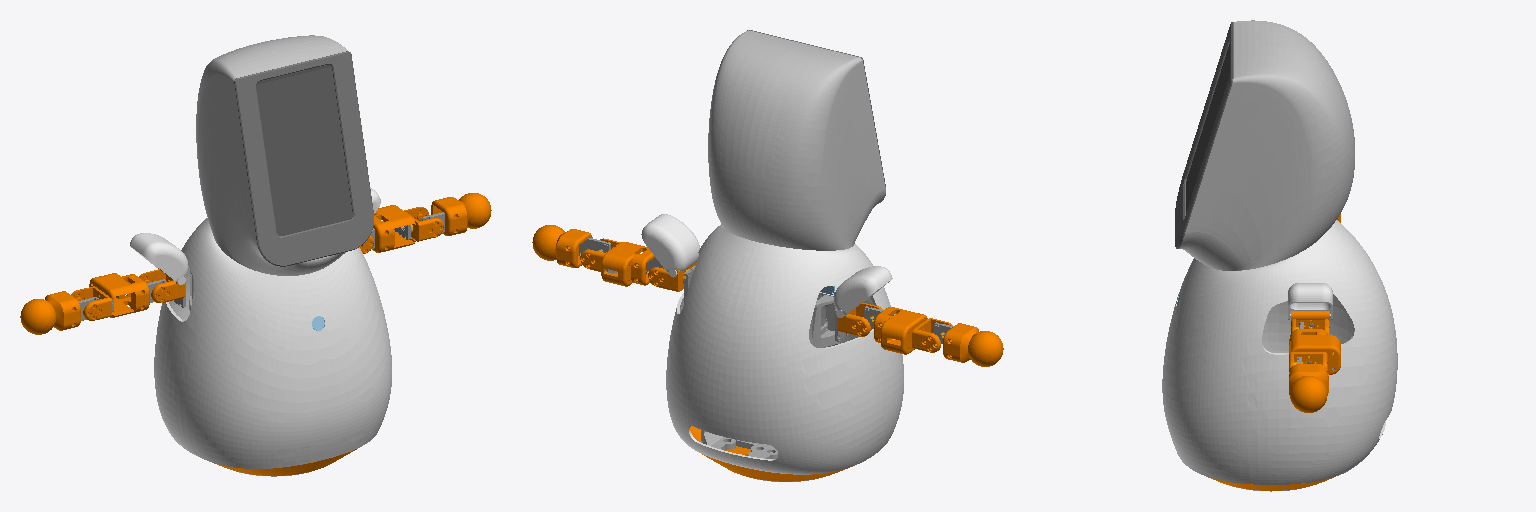
--- Facts derived from the render (not from the file) ---
The picture shows the robot from 3 angles, left to right: view 1: azimuth 30°, elevation 25°; view 2: azimuth 150°, elevation 25°; view 3: azimuth 270°, elevation 25°; orthographic projection.
Robot: simulation — 15 links, 14 joints (12 revolute, 2 fixed); root link arm_left; default pose: every joint at zero.
Links seen in each view (by area): view 1: arm_left, display, xl330___assembly_4, xl330___assembly_2, xl330___assembly_3, shoulder_pad_2, xl330___assembly, right_shoulder, elbow_2, elbow; view 2: arm_left, display, shoulder_pad, xl330___assembly_4, xl330___assembly_2, xl330___assembly, xl330___assembly_3, shoulder_pad_2, elbow_2, right_shoulder, left_shoulder; view 3: arm_left, display, xl330___assembly_2, xl330___assembly, shoulder_pad, left_shoulder.
Boxes of the visible links, x1,y1,x2,y2 form: arm_left: [154, 218, 391, 475]; display: [196, 35, 373, 275]; xl330___assembly_4: [20, 291, 98, 334]; xl330___assembly_2: [422, 193, 491, 235]; xl330___assembly_3: [89, 273, 166, 317]; shoulder_pad_2: [130, 233, 188, 284]; xl330___assembly: [370, 205, 415, 252]; right_shoulder: [139, 268, 184, 302]; elbow_2: [71, 286, 111, 320]; elbow: [404, 207, 443, 241]; arm_left: [666, 224, 903, 481]; display: [708, 30, 885, 250]; shoulder_pad: [641, 214, 699, 277]; xl330___assembly_4: [934, 322, 1003, 366]; xl330___assembly_2: [532, 225, 610, 267]; xl330___assembly: [601, 242, 663, 286]; xl330___assembly_3: [864, 306, 927, 354]; shoulder_pad_2: [834, 266, 892, 317]; elbow_2: [912, 318, 952, 352]; right_shoulder: [838, 301, 882, 336]; left_shoulder: [648, 262, 696, 291]; arm_left: [1162, 220, 1397, 490]; display: [1175, 20, 1354, 270]; xl330___assembly_2: [1289, 357, 1328, 412]; xl330___assembly: [1289, 322, 1340, 374]; shoulder_pad: [1288, 283, 1332, 319]; left_shoulder: [1291, 311, 1329, 334].
Size in the robot's own frame: 0.5202 by 0.2191 by 0.4273 metres.
44 mesh visuals loaded from 24 distinct referenced files (20 binary STL); not drawn: 40 (reference not matched to a file when rendering).

URDF robot description (simulation):
<?xml version="1.0" ?>
<!-- Generated using onshape-to-robot -->
<!-- Onshape https://cad.onshape.com/documents/6693e038d6f5b2ee88eb0e81/w/837c8362b0b0bbf41939d6fd/e/ded7f450cb5bd722a96b42b6 -->
<robot name="simulation">
  <!-- Link arm_left -->
  <link name="arm_left">
    <inertial>
      <origin xyz="1.56855e-07 0.00536118 0.0913436" rpy="0 0 0"/>
      <mass value="0.926817"/>
      <inertia ixx="0.00864223" ixy="7.3434e-07" ixz="-7.3209e-08" iyy="0.00898484" iyz="-0.000208978" izz="0.00689434"/>
    </inertial>
    <!-- Part arm_left -->
    <visual>
      <origin xyz="5.01468e-16 4.623e-16 0.02" rpy="-1.00624e-25 -8.61788e-25 -3.14159"/>
      <geometry>
        <mesh filename="./assets/arm_left.stl"/>
      </geometry>
      <material name="arm_left_material">
        <color rgba="0.701961 0.701961 0.701961 1"/>
      </material>
    </visual>
    <collision>
      <origin xyz="5.01468e-16 4.623e-16 0.02" rpy="-1.00624e-25 -8.61788e-25 -3.14159"/>
      <geometry>
        <mesh filename="./assets/arm_left.stl"/>
      </geometry>
    </collision>
    <!-- Part arm_right -->
    <visual>
      <origin xyz="-5.09524e-16 4.76339e-16 0.02" rpy="-1.00624e-25 -8.61788e-25 -3.14159"/>
      <geometry>
        <mesh filename="./assets/arm_right.stl"/>
      </geometry>
      <material name="arm_right_material">
        <color rgba="0.701961 0.701961 0.701961 1"/>
      </material>
    </visual>
    <collision>
      <origin xyz="-5.09524e-16 4.76339e-16 0.02" rpy="-1.00624e-25 -8.61788e-25 -3.14159"/>
      <geometry>
        <mesh filename="./assets/arm_right.stl"/>
      </geometry>
    </collision>
    <!-- Part camera -->
    <visual>
      <origin xyz="-3.50545e-16 -0.0627719 0.157192" rpy="1.26238 -7.40306e-16 1.66262e-16"/>
      <geometry>
        <mesh filename="./assets/camera.stl"/>
      </geometry>
      <material name="camera_material">
        <color rgba="0.615686 0.811765 0.929412 1"/>
      </material>
    </visual>
    <collision>
      <origin xyz="-3.50545e-16 -0.0627719 0.157192" rpy="1.26238 -7.40306e-16 1.66262e-16"/>
      <geometry>
        <mesh filename="./assets/camera.stl"/>
      </geometry>
    </collision>
    <!-- Part motor_driver_mount -->
    <visual>
      <origin xyz="7.2818e-16 -2.35864e-16 0.02" rpy="-1.00624e-25 -8.61788e-25 -3.14159"/>
      <geometry>
        <mesh filename="./assets/motor_driver_mount.stl"/>
      </geometry>
      <material name="motor_driver_mount_material">
        <color rgba="0.498039 0.498039 0.498039 1"/>
      </material>
    </visual>
    <collision>
      <origin xyz="7.2818e-16 -2.35864e-16 0.02" rpy="-1.00624e-25 -8.61788e-25 -3.14159"/>
      <geometry>
        <mesh filename="./assets/motor_driver_mount.stl"/>
      </geometry>
    </collision>
    <!-- Part body -->
    <visual>
      <origin xyz="-2.95314e-18 -1.03514e-16 0.02" rpy="0 -0 3.14159"/>
      <geometry>
        <mesh filename="./assets/body.stl"/>
      </geometry>
      <material name="body_material">
        <color rgba="0.917647 0.917647 0.917647 1"/>
      </material>
    </visual>
    <collision>
      <origin xyz="-2.95314e-18 -1.03514e-16 0.02" rpy="0 -0 3.14159"/>
      <geometry>
        <mesh filename="./assets/body.stl"/>
      </geometry>
    </collision>
    <!-- Part base -->
    <visual>
      <origin xyz="-1.44445e-34 1.1328e-18 0.02" rpy="-3.00927e-36 4.07832e-56 -3.14159"/>
      <geometry>
        <mesh filename="./assets/base.stl"/>
      </geometry>
      <material name="base_material">
        <color rgba="0.972549 0.529412 0.00392157 1"/>
      </material>
    </visual>
    <collision>
      <origin xyz="-1.44445e-34 1.1328e-18 0.02" rpy="-3.00927e-36 4.07832e-56 -3.14159"/>
      <geometry>
        <mesh filename="./assets/base.stl"/>
      </geometry>
    </collision>
    <!-- Part b3b_eh -->
    <visual>
      <origin xyz="0.0721 0.0452 0.170517" rpy="-1.5708 1.5708 0"/>
      <geometry>
        <mesh filename="./assets/b3b_eh.stl"/>
      </geometry>
      <material name="b3b_eh_material">
        <color rgba="0.980392 0.713725 0.00392157 1"/>
      </material>
    </visual>
    <collision>
      <origin xyz="0.0721 0.0452 0.170517" rpy="-1.5708 1.5708 0"/>
      <geometry>
        <mesh filename="./assets/b3b_eh.stl"/>
      </geometry>
    </collision>
    <!-- Part bts2_m2_6x8 -->
    <visual>
      <origin xyz="0.0874 0.0375 0.179517" rpy="1.6323e-15 -7.15314e-15 -1.5708"/>
      <geometry>
        <mesh filename="./assets/bts2_m2_6x8.stl"/>
      </geometry>
      <material name="bts2_m2_6x8_material">
        <color rgba="0.647059 0.647059 0.647059 1"/>
      </material>
    </visual>
    <collision>
      <origin xyz="0.0874 0.0375 0.179517" rpy="1.6323e-15 -7.15314e-15 -1.5708"/>
      <geometry>
        <mesh filename="./assets/bts2_m2_6x8.stl"/>
      </geometry>
    </collision>
    <!-- Part dc15_a01_case_b_dummy -->
    <visual>
      <origin xyz="0.063 0.0375 0.179517" rpy="1.5708 -1.00624e-25 1.5708"/>
      <geometry>
        <mesh filename="./assets/dc15_a01_case_b_dummy.stl"/>
      </geometry>
      <material name="dc15_a01_case_b_dummy_material">
        <color rgba="0.615686 0.811765 0.929412 1"/>
      </material>
    </visual>
    <collision>
      <origin xyz="0.063 0.0375 0.179517" rpy="1.5708 -1.00624e-25 1.5708"/>
      <geometry>
        <mesh filename="./assets/dc15_a01_case_b_dummy.stl"/>
      </geometry>
    </collision>
    <!-- Part b3b_eh_2 -->
    <visual>
      <origin xyz="0.0721 0.0298 0.170517" rpy="1.5708 -1.5708 0"/>
      <geometry>
        <mesh filename="./assets/b3b_eh.stl"/>
      </geometry>
      <material name="b3b_eh_2_material">
        <color rgba="0.980392 0.713725 0.00392157 1"/>
      </material>
    </visual>
    <collision>
      <origin xyz="0.0721 0.0298 0.170517" rpy="1.5708 -1.5708 0"/>
      <geometry>
        <mesh filename="./assets/b3b_eh.stl"/>
      </geometry>
    </collision>
    <!-- Part dc15_a01_case_m_dummy -->
    <visual>
      <origin xyz="0.0825 0.0375 0.179517" rpy="1.5708 -1.00624e-25 1.5708"/>
      <geometry>
        <mesh filename="./assets/dc15_a01_case_m_dummy.stl"/>
      </geometry>
      <material name="dc15_a01_case_m_dummy_material">
        <color rgba="0.231373 0.380392 0.705882 1"/>
      </material>
    </visual>
    <collision>
      <origin xyz="0.0825 0.0375 0.179517" rpy="1.5708 -1.00624e-25 1.5708"/>
      <geometry>
        <mesh filename="./assets/dc15_a01_case_m_dummy.stl"/>
      </geometry>
    </collision>
    <!-- Part dc15_a01_case_f_dummy -->
    <visual>
      <origin xyz="0.0825 0.0375 0.179517" rpy="1.5708 -1.00624e-25 1.5708"/>
      <geometry>
        <mesh filename="./assets/dc15_a01_case_f_dummy.stl"/>
      </geometry>
      <material name="dc15_a01_case_f_dummy_material">
        <color rgba="0.647059 0.647059 0.647059 1"/>
      </material>
    </visual>
    <collision>
      <origin xyz="0.0825 0.0375 0.179517" rpy="1.5708 -1.00624e-25 1.5708"/>
      <geometry>
        <mesh filename="./assets/dc15_a01_case_f_dummy.stl"/>
      </geometry>
    </collision>
    <!-- Part dc15_a01_led_cap2_dummy -->
    <visual>
      <origin xyz="0.0649 0.0375 0.187017" rpy="1.5708 -4.94049e-15 -1.5708"/>
      <geometry>
        <mesh filename="./assets/dc15_a01_led_cap2_dummy.stl"/>
      </geometry>
      <material name="dc15_a01_led_cap2_dummy_material">
        <color rgba="0.498039 0.498039 0.498039 1"/>
      </material>
    </visual>
    <collision>
      <origin xyz="0.0649 0.0375 0.187017" rpy="1.5708 -4.94049e-15 -1.5708"/>
      <geometry>
        <mesh filename="./assets/dc15_a01_led_cap2_dummy.stl"/>
      </geometry>
    </collision>
    <!-- Part dc15_a01_horn_dummy -->
    <visual>
      <origin xyz="0.0861 0.0375 0.179517" rpy="1.6323e-15 -7.15314e-15 -1.5708"/>
      <geometry>
        <mesh filename="./assets/dc15_a01_horn_dummy.stl"/>
      </geometry>
      <material name="dc15_a01_horn_dummy_material">
        <color rgba="0.980392 0.713725 0.00392157 1"/>
      </material>
    </visual>
    <collision>
      <origin xyz="0.0861 0.0375 0.179517" rpy="1.6323e-15 -7.15314e-15 -1.5708"/>
      <geometry>
        <mesh filename="./assets/dc15_a01_horn_dummy.stl"/>
      </geometry>
    </collision>
    <!-- Part b3b_eh_3 -->
    <visual>
      <origin xyz="-0.0721 0.0298 0.170517" rpy="1.5708 1.5708 0"/>
      <geometry>
        <mesh filename="./assets/b3b_eh.stl"/>
      </geometry>
      <material name="b3b_eh_3_material">
        <color rgba="0.980392 0.713725 0.00392157 1"/>
      </material>
    </visual>
    <collision>
      <origin xyz="-0.0721 0.0298 0.170517" rpy="1.5708 1.5708 0"/>
      <geometry>
        <mesh filename="./assets/b3b_eh.stl"/>
      </geometry>
    </collision>
    <!-- Part bts2_m2_6x8_2 -->
    <visual>
      <origin xyz="-0.0874 0.0375 0.179517" rpy="6.76283e-14 1.02745e-14 1.5708"/>
      <geometry>
        <mesh filename="./assets/bts2_m2_6x8.stl"/>
      </geometry>
      <material name="bts2_m2_6x8_2_material">
        <color rgba="0.647059 0.647059 0.647059 1"/>
      </material>
    </visual>
    <collision>
      <origin xyz="-0.0874 0.0375 0.179517" rpy="6.76283e-14 1.02745e-14 1.5708"/>
      <geometry>
        <mesh filename="./assets/bts2_m2_6x8.stl"/>
      </geometry>
    </collision>
    <!-- Part dc15_a01_case_b_dummy_2 -->
    <visual>
      <origin xyz="-0.063 0.0375 0.179517" rpy="1.5708 1.01444e-25 -1.5708"/>
      <geometry>
        <mesh filename="./assets/dc15_a01_case_b_dummy.stl"/>
      </geometry>
      <material name="dc15_a01_case_b_dummy_2_material">
        <color rgba="0.615686 0.811765 0.929412 1"/>
      </material>
    </visual>
    <collision>
      <origin xyz="-0.063 0.0375 0.179517" rpy="1.5708 1.01444e-25 -1.5708"/>
      <geometry>
        <mesh filename="./assets/dc15_a01_case_b_dummy.stl"/>
      </geometry>
    </collision>
    <!-- Part b3b_eh_4 -->
    <visual>
      <origin xyz="-0.0721 0.0452 0.170517" rpy="-1.5708 -1.5708 0"/>
      <geometry>
        <mesh filename="./assets/b3b_eh.stl"/>
      </geometry>
      <material name="b3b_eh_4_material">
        <color rgba="0.980392 0.713725 0.00392157 1"/>
      </material>
    </visual>
    <collision>
      <origin xyz="-0.0721 0.0452 0.170517" rpy="-1.5708 -1.5708 0"/>
      <geometry>
        <mesh filename="./assets/b3b_eh.stl"/>
      </geometry>
    </collision>
    <!-- Part dc15_a01_case_m_dummy_2 -->
    <visual>
      <origin xyz="-0.0825 0.0375 0.179517" rpy="1.5708 1.01444e-25 -1.5708"/>
      <geometry>
        <mesh filename="./assets/dc15_a01_case_m_dummy.stl"/>
      </geometry>
      <material name="dc15_a01_case_m_dummy_2_material">
        <color rgba="0.231373 0.380392 0.705882 1"/>
      </material>
    </visual>
    <collision>
      <origin xyz="-0.0825 0.0375 0.179517" rpy="1.5708 1.01444e-25 -1.5708"/>
      <geometry>
        <mesh filename="./assets/dc15_a01_case_m_dummy.stl"/>
      </geometry>
    </collision>
    <!-- Part dc15_a01_case_f_dummy_2 -->
    <visual>
      <origin xyz="-0.0825 0.0375 0.179517" rpy="1.5708 1.01444e-25 -1.5708"/>
      <geometry>
        <mesh filename="./assets/dc15_a01_case_f_dummy.stl"/>
      </geometry>
      <material name="dc15_a01_case_f_dummy_2_material">
        <color rgba="0.647059 0.647059 0.647059 1"/>
      </material>
    </visual>
    <collision>
      <origin xyz="-0.0825 0.0375 0.179517" rpy="1.5708 1.01444e-25 -1.5708"/>
      <geometry>
        <mesh filename="./assets/dc15_a01_case_f_dummy.stl"/>
      </geometry>
    </collision>
    <!-- Part dc15_a01_led_cap2_dummy_2 -->
    <visual>
      <origin xyz="-0.0649 0.0375 0.187017" rpy="1.5708 8.82627e-15 1.5708"/>
      <geometry>
        <mesh filename="./assets/dc15_a01_led_cap2_dummy.stl"/>
      </geometry>
      <material name="dc15_a01_led_cap2_dummy_2_material">
        <color rgba="0.498039 0.498039 0.498039 1"/>
      </material>
    </visual>
    <collision>
      <origin xyz="-0.0649 0.0375 0.187017" rpy="1.5708 8.82627e-15 1.5708"/>
      <geometry>
        <mesh filename="./assets/dc15_a01_led_cap2_dummy.stl"/>
      </geometry>
    </collision>
    <!-- Part dc15_a01_horn_dummy_2 -->
    <visual>
      <origin xyz="-0.0861 0.0375 0.179517" rpy="6.76283e-14 1.02745e-14 1.5708"/>
      <geometry>
        <mesh filename="./assets/dc15_a01_horn_dummy.stl"/>
      </geometry>
      <material name="dc15_a01_horn_dummy_2_material">
        <color rgba="0.980392 0.713725 0.00392157 1"/>
      </material>
    </visual>
    <collision>
      <origin xyz="-0.0861 0.0375 0.179517" rpy="6.76283e-14 1.02745e-14 1.5708"/>
      <geometry>
        <mesh filename="./assets/dc15_a01_horn_dummy.stl"/>
      </geometry>
    </collision>
  </link>
  <!-- Link display -->
  <link name="display">
    <inertial>
      <origin xyz="-5.00413e-05 0.0320601 -0.0801642" rpy="0 0 0"/>
      <mass value="0.287621"/>
      <inertia ixx="0.00184599" ixy="-2.13386e-06" ixz="1.99291e-06" iyy="0.00175481" iyz="0.000397539" izz="0.00143822"/>
    </inertial>
    <!-- Part display -->
    <visual>
      <origin xyz="-2.45693e-16 -0.0108406 -0.114141" rpy="-2.1283 2.56219e-16 -3.14159"/>
      <geometry>
        <mesh filename="./assets/display.stl"/>
      </geometry>
      <material name="display_material">
        <color rgba="0.4 0.4 0.4 1"/>
      </material>
    </visual>
    <collision>
      <origin xyz="-2.45693e-16 -0.0108406 -0.114141" rpy="-2.1283 2.56219e-16 -3.14159"/>
      <geometry>
        <mesh filename="./assets/display.stl"/>
      </geometry>
    </collision>
    <!-- Part screen_mask -->
    <visual>
      <origin xyz="2.85933e-16 -0.0513986 0.201124" rpy="-2.86234 -5.00102e-16 1.98291e-16"/>
      <geometry>
        <mesh filename="./assets/screen_mask.stl"/>
      </geometry>
      <material name="screen_mask_material">
        <color rgba="0.498039 0.498039 0.498039 1"/>
      </material>
    </visual>
    <collision>
      <origin xyz="2.85933e-16 -0.0513986 0.201124" rpy="-2.86234 -5.00102e-16 1.98291e-16"/>
      <geometry>
        <mesh filename="./assets/screen_mask.stl"/>
      </geometry>
    </collision>
    <!-- Part head -->
    <visual>
      <origin xyz="4.90463e-18 -0.0513986 0.201124" rpy="-2.86234 7.65047e-17 -1.35231e-32"/>
      <geometry>
        <mesh filename="./assets/head.stl"/>
      </geometry>
      <material name="head_material">
        <color rgba="0.8 0.8 0.8 1"/>
      </material>
    </visual>
    <collision>
      <origin xyz="4.90463e-18 -0.0513986 0.201124" rpy="-2.86234 7.65047e-17 -1.35231e-32"/>
      <geometry>
        <mesh filename="./assets/head.stl"/>
      </geometry>
    </collision>
  </link>
  <!-- Joint from arm_left to display -->
  <joint name="head" type="revolute">
    <origin xyz="-1.15931e-17 -0.00602975 0.2275" rpy="2.86234 -7.59018e-16 -3.14159"/>
    <parent link="arm_left"/>
    <child link="display"/>
    <axis xyz="0 0 1"/>
    <limit effort="10" velocity="10" lower="-1.22173" upper="1.22173"/>
  </joint>
  <!-- Link rotating_base -->
  <link name="rotating_base">
    <inertial>
      <origin xyz="-1.64215e-19 -3.56062e-18 -0.00789183" rpy="0 0 0"/>
      <mass value="0.104547"/>
      <inertia ixx="0.00011678" ixy="-3.67342e-40" ixz="-4.73347e-60" iyy="0.00011678" iyz="-3.49268e-40" izz="0.000232844"/>
    </inertial>
    <!-- Part rotating_base -->
    <visual>
      <origin xyz="-1.44414e-34 6.12323e-19 0.012" rpy="-3.00927e-36 -4.07832e-56 3.14159"/>
      <geometry>
        <mesh filename="./assets/rotating_base.stl"/>
      </geometry>
      <material name="rotating_base_material">
        <color rgba="0.917647 0.917647 0.917647 1"/>
      </material>
    </visual>
    <collision>
      <origin xyz="-1.44414e-34 6.12323e-19 0.012" rpy="-3.00927e-36 -4.07832e-56 3.14159"/>
      <geometry>
        <mesh filename="./assets/rotating_base.stl"/>
      </geometry>
    </collision>
  </link>
  <!-- Joint from arm_left to rotating_base -->
  <joint name="base" type="revolute">
    <origin xyz="-1.44431e-34 6.12323e-19 0.008" rpy="-3.00927e-36 4.07832e-56 -3.14159"/>
    <parent link="arm_left"/>
    <child link="rotating_base"/>
    <axis xyz="0 0 1"/>
    <limit effort="10" velocity="10" lower="-3.14159" upper="3.14159"/>
  </joint>
  <!-- Link left_shoulder -->
  <link name="left_shoulder">
    <inertial>
      <origin xyz="0.000954891 0.00228907 -0.0110516" rpy="0 0 0"/>
      <mass value="0.0105595"/>
      <inertia ixx="1.49349e-06" ixy="-1.08642e-09" ixz="-1.06526e-08" iyy="2.9353e-06" iyz="-1.55193e-07" izz="2.46233e-06"/>
    </inertial>
    <!-- Part left_shoulder -->
    <visual>
      <origin xyz="0.0355 -0.179517 0.089" rpy="-1.5708 -1.5708 0"/>
      <geometry>
        <mesh filename="./assets/left_shoulder.stl"/>
      </geometry>
      <material name="left_shoulder_material">
        <color rgba="0.972549 0.529412 0.00392157 1"/>
      </material>
    </visual>
    <collision>
      <origin xyz="0.0355 -0.179517 0.089" rpy="-1.5708 -1.5708 0"/>
      <geometry>
        <mesh filename="./assets/left_shoulder.stl"/>
      </geometry>
    </collision>
  </link>
  <!-- Link shoulder_pad -->
  <link name="shoulder_pad">
    <inertial>
      <origin xyz="0.0249562 0.0106205 -0.017979" rpy="0 0 0"/>
      <mass value="0.0123034"/>
      <inertia ixx="3.51415e-06" ixy="3.49578e-07" ixz="-3.32541e-09" iyy="6.33798e-06" iyz="1.93855e-09" izz="4.31141e-06"/>
    </inertial>
    <!-- Part shoulder_pad -->
    <visual>
      <origin xyz="-0.0935 -0.191017 -0.0525" rpy="-1.5708 5.55112e-17 4.27996e-18"/>
      <geometry>
        <mesh filename="./assets/shoulder_pad.stl"/>
      </geometry>
      <material name="shoulder_pad_material">
        <color rgba="0.917647 0.917647 0.917647 1"/>
      </material>
    </visual>
    <collision>
      <origin xyz="-0.0935 -0.191017 -0.0525" rpy="-1.5708 5.55112e-17 4.27996e-18"/>
      <geometry>
        <mesh filename="./assets/shoulder_pad.stl"/>
      </geometry>
    </collision>
  </link>
  <!-- Joint from left_shoulder to shoulder_pad -->
  <joint name="left_shoulder_pad" type="revolute">
    <origin xyz="0.0189997 0.0115 -0.0045" rpy="1.5708 0.785398 1.5708"/>
    <parent link="left_shoulder"/>
    <child link="shoulder_pad"/>
    <axis xyz="0 0 1"/>
    <limit effort="10" velocity="10" lower="-0.785398" upper="1.79856e-14"/>
  </joint>
  <!-- Link xl330___assembly -->
  <link name="xl330___assembly">
    <inertial>
      <origin xyz="-6.8305e-06 0.0295432 -0.0158499" rpy="0 0 0"/>
      <mass value="0.0655349"/>
      <inertia ixx="3.34493e-05" ixy="7.73712e-11" ixz="-1.54866e-09" iyy="1.25704e-05" iyz="4.35359e-06" izz="2.88274e-05"/>
    </inertial>
    <!-- Part left_upperarm -->
    <visual>
      <origin xyz="0.179517 -0.1135 0.0218003" rpy="1.5708 -2.2815e-15 -1.5708"/>
      <geometry>
        <mesh filename="./assets/left_upperarm.stl"/>
      </geometry>
      <material name="left_upperarm_material">
        <color rgba="0.972549 0.529412 0.00392157 1"/>
      </material>
    </visual>
    <collision>
      <origin xyz="0.179517 -0.1135 0.0218003" rpy="1.5708 -2.2815e-15 -1.5708"/>
      <geometry>
        <mesh filename="./assets/left_upperarm.stl"/>
      </geometry>
    </collision>
    <!-- Part b3b_eh_5 -->
    <visual>
      <origin xyz="-0.0077 0.0407 -0.0212" rpy="-3.14159 1.5708 0"/>
      <geometry>
        <mesh filename="./assets/b3b_eh.stl"/>
      </geometry>
      <material name="b3b_eh_5_material">
        <color rgba="0.980392 0.713725 0.00392157 1"/>
      </material>
    </visual>
    <collision>
      <origin xyz="-0.0077 0.0407 -0.0212" rpy="-3.14159 1.5708 0"/>
      <geometry>
        <mesh filename="./assets/b3b_eh.stl"/>
      </geometry>
    </collision>
    <!-- Part bts2_m2_6x8_3 -->
    <visual>
      <origin xyz="1.65375e-10 0.056 -0.0122" rpy="-8.9101e-14 1.80868e-13 -4.21438e-13"/>
      <geometry>
        <mesh filename="./assets/bts2_m2_6x8.stl"/>
      </geometry>
      <material name="bts2_m2_6x8_3_material">
        <color rgba="0.647059 0.647059 0.647059 1"/>
      </material>
    </visual>
    <collision>
      <origin xyz="1.65375e-10 0.056 -0.0122" rpy="-8.9101e-14 1.80868e-13 -4.21438e-13"/>
      <geometry>
        <mesh filename="./assets/bts2_m2_6x8.stl"/>
      </geometry>
    </collision>
    <!-- Part dc15_a01_case_b_dummy_3 -->
    <visual>
      <origin xyz="1.65367e-10 0.0316 -0.0122" rpy="1.5708 -1.28523e-13 3.14159"/>
      <geometry>
        <mesh filename="./assets/dc15_a01_case_b_dummy.stl"/>
      </geometry>
      <material name="dc15_a01_case_b_dummy_3_material">
        <color rgba="0.615686 0.811765 0.929412 1"/>
      </material>
    </visual>
    <collision>
      <origin xyz="1.65367e-10 0.0316 -0.0122" rpy="1.5708 -1.28523e-13 3.14159"/>
      <geometry>
        <mesh filename="./assets/dc15_a01_case_b_dummy.stl"/>
      </geometry>
    </collision>
    <!-- Part b3b_eh_6 -->
    <visual>
      <origin xyz="0.0077 0.0407 -0.0212" rpy="3.14159 -1.5708 0"/>
      <geometry>
        <mesh filename="./assets/b3b_eh.stl"/>
      </geometry>
      <material name="b3b_eh_6_material">
        <color rgba="0.980392 0.713725 0.00392157 1"/>
      </material>
    </visual>
    <collision>
      <origin xyz="0.0077 0.0407 -0.0212" rpy="3.14159 -1.5708 0"/>
      <geometry>
        <mesh filename="./assets/b3b_eh.stl"/>
      </geometry>
    </collision>
    <!-- Part dc15_a01_case_m_dummy_3 -->
    <visual>
      <origin xyz="1.65374e-10 0.0511 -0.0122" rpy="1.5708 -1.28523e-13 3.14159"/>
      <geometry>
        <mesh filename="./assets/dc15_a01_case_m_dummy.stl"/>
      </geometry>
      <material name="dc15_a01_case_m_dummy_3_material">
        <color rgba="0.231373 0.380392 0.705882 1"/>
      </material>
    </visual>
    <collision>
      <origin xyz="1.65374e-10 0.0511 -0.0122" rpy="1.5708 -1.28523e-13 3.14159"/>
      <geometry>
        <mesh filename="./assets/dc15_a01_case_m_dummy.stl"/>
      </geometry>
    </collision>
    <!-- Part dc15_a01_case_f_dummy_3 -->
    <visual>
      <origin xyz="1.65374e-10 0.0511 -0.0122" rpy="1.5708 -1.28523e-13 3.14159"/>
      <geometry>
        <mesh filename="./assets/dc15_a01_case_f_dummy.stl"/>
      </geometry>
      <material name="dc15_a01_case_f_dummy_3_material">
        <color rgba="0.647059 0.647059 0.647059 1"/>
      </material>
    </visual>
    <collision>
      <origin xyz="1.65374e-10 0.0511 -0.0122" rpy="1.5708 -1.28523e-13 3.14159"/>
      <geometry>
        <mesh filename="./assets/dc15_a01_case_f_dummy.stl"/>
      </geometry>
    </collision>
    <!-- Part dc15_a01_led_cap2_dummy_3 -->
    <visual>
      <origin xyz="1.65368e-10 0.0335 -0.0047" rpy="1.5708 1.80401e-13 -4.64106e-13"/>
      <geometry>
        <mesh filename="./assets/dc15_a01_led_cap2_dummy.stl"/>
      </geometry>
      <material name="dc15_a01_led_cap2_dummy_3_material">
        <color rgba="0.498039 0.498039 0.498039 1"/>
      </material>
    </visual>
    <collision>
      <origin xyz="1.65368e-10 0.0335 -0.0047" rpy="1.5708 1.80401e-13 -4.64106e-13"/>
      <geometry>
        <mesh filename="./assets/dc15_a01_led_cap2_dummy.stl"/>
      </geometry>
    </collision>
    <!-- Part dc15_a01_horn_dummy_3 -->
    <visual>
      <origin xyz="1.65376e-10 0.0547 -0.0122" rpy="-8.9101e-14 1.80868e-13 -4.21438e-13"/>
      <geometry>
        <mesh filename="./assets/dc15_a01_horn_dummy.stl"/>
      </geometry>
      <material name="dc15_a01_horn_dummy_3_material">
        <color rgba="0.980392 0.713725 0.00392157 1"/>
      </material>
    </visual>
    <collision>
      <origin xyz="1.65376e-10 0.0547 -0.0122" rpy="-8.9101e-14 1.80868e-13 -4.21438e-13"/>
      <geometry>
        <mesh filename="./assets/dc15_a01_horn_dummy.stl"/>
      </geometry>
    </collision>
    <!-- Part b3b_eh_7 -->
    <visual>
      <origin xyz="-0.0077 0.00899999 -0.0169" rpy="-1.5708 6.43832e-15 1.5708"/>
      <geometry>
        <mesh filename="./assets/b3b_eh.stl"/>
      </geometry>
      <material name="b3b_eh_7_material">
        <color rgba="0.980392 0.713725 0.00392157 1"/>
      </material>
    </visual>
    <collision>
      <origin xyz="-0.0077 0.00899999 -0.0169" rpy="-1.5708 6.43832e-15 1.5708"/>
      <geometry>
        <mesh filename="./assets/b3b_eh.stl"/>
      </geometry>
    </collision>
    <!-- Part bts2_m2_6x8_4 -->
    <visual>
      <origin xyz="1.65354e-10 -5.83177e-09 -0.0016" rpy="1.5708 -3.37735e-31 4.3144e-31"/>
      <geometry>
        <mesh filename="./assets/bts2_m2_6x8.stl"/>
      </geometry>
      <material name="bts2_m2_6x8_4_material">
        <color rgba="0.647059 0.647059 0.647059 1"/>
      </material>
    </visual>
    <collision>
      <origin xyz="1.65354e-10 -5.83177e-09 -0.0016" rpy="1.5708 -3.37735e-31 4.3144e-31"/>
      <geometry>
        <mesh filename="./assets/bts2_m2_6x8.stl"/>
      </geometry>
    </collision>
    <!-- Part dc15_a01_case_b_dummy_4 -->
    <visual>
      <origin xyz="1.65354e-10 -5.83177e-09 -0.026" rpy="-4.4743e-14 -1.31749e-13 3.14159"/>
      <geometry>
        <mesh filename="./assets/dc15_a01_case_b_dummy.stl"/>
      </geometry>
      <material name="dc15_a01_case_b_dummy_4_material">
        <color rgba="0.615686 0.811765 0.929412 1"/>
      </material>
    </visual>
    <collision>
      <origin xyz="1.65354e-10 -5.83177e-09 -0.026" rpy="-4.4743e-14 -1.31749e-13 3.14159"/>
      <geometry>
        <mesh filename="./assets/dc15_a01_case_b_dummy.stl"/>
      </geometry>
    </collision>
    <!-- Part b3b_eh_8 -->
    <visual>
      <origin xyz="0.0077 0.00899999 -0.0169" rpy="-1.5708 -1.05739e-14 -1.5708"/>
      <geometry>
        <mesh filename="./assets/b3b_eh.stl"/>
      </geometry>
      <material name="b3b_eh_8_material">
        <color rgba="0.980392 0.713725 0.00392157 1"/>
      </material>
    </visual>
    <collision>
      <origin xyz="0.0077 0.00899999 -0.0169" rpy="-1.5708 -1.05739e-14 -1.5708"/>
      <geometry>
        <mesh filename="./assets/b3b_eh.stl"/>
      </geometry>
    </collision>
    <!-- Part dc15_a01_case_m_dummy_4 -->
    <visual>
      <origin xyz="1.65354e-10 -5.83177e-09 -0.0065" rpy="-4.4743e-14 -1.31749e-13 3.14159"/>
      <geometry>
        <mesh filename="./assets/dc15_a01_case_m_dummy.stl"/>
      </geometry>
      <material name="dc15_a01_case_m_dummy_4_material">
        <color rgba="0.231373 0.380392 0.705882 1"/>
      </material>
    </visual>
    <collision>
      <origin xyz="1.65354e-10 -5.83177e-09 -0.0065" rpy="-4.4743e-14 -1.31749e-13 3.14159"/>
      <geometry>
        <mesh filename="./assets/dc15_a01_case_m_dummy.stl"/>
      </geometry>
    </collision>
    <!-- Part dc15_a01_case_f_dummy_4 -->
    <visual>
      <origin xyz="1.65354e-10 -5.83177e-09 -0.0065" rpy="-4.4743e-14 -1.31749e-13 3.14159"/>
      <geometry>
        <mesh filename="./assets/dc15_a01_case_f_dummy.stl"/>
      </geometry>
      <material name="dc15_a01_case_f_dummy_4_material">
        <color rgba="0.647059 0.647059 0.647059 1"/>
      </material>
    </visual>
    <collision>
      <origin xyz="1.65354e-10 -5.83177e-09 -0.0065" rpy="-4.4743e-14 -1.31749e-13 3.14159"/>
      <geometry>
        <mesh filename="./assets/dc15_a01_case_f_dummy.stl"/>
      </geometry>
    </collision>
    <!-- Part dc15_a01_led_cap2_dummy_4 -->
    <visual>
      <origin xyz="1.65353e-10 -0.00750001 -0.0241" rpy="-3.14159 1.80626e-14 -8.21565e-15"/>
      <geometry>
        <mesh filename="./assets/dc15_a01_led_cap2_dummy.stl"/>
      </geometry>
      <material name="dc15_a01_led_cap2_dummy_4_material">
        <color rgba="0.498039 0.498039 0.498039 1"/>
      </material>
    </visual>
    <collision>
      <origin xyz="1.65353e-10 -0.00750001 -0.0241" rpy="-3.14159 1.80626e-14 -8.21565e-15"/>
      <geometry>
        <mesh filename="./assets/dc15_a01_led_cap2_dummy.stl"/>
      </geometry>
    </collision>
    <!-- Part dc15_a01_horn_dummy_4 -->
    <visual>
      <origin xyz="1.65355e-10 -5.83177e-09 -0.0029" rpy="1.5708 -3.37735e-31 4.3144e-31"/>
      <geometry>
        <mesh filename="./assets/dc15_a01_horn_dummy.stl"/>
      </geometry>
      <material name="dc15_a01_horn_dummy_4_material">
        <color rgba="0.980392 0.713725 0.00392157 1"/>
      </material>
    </visual>
    <collision>
      <origin xyz="1.65355e-10 -5.83177e-09 -0.0029" rpy="1.5708 -3.37735e-31 4.3144e-31"/>
      <geometry>
        <mesh filename="./assets/dc15_a01_horn_dummy.stl"/>
      </geometry>
    </collision>
  </link>
  <!-- Link elbow -->
  <link name="elbow">
    <inertial>
      <origin xyz="-5.55112e-17 0.000935936 -0.0102895" rpy="0 0 0"/>
      <mass value="0.00742746"/>
      <inertia ixx="2.01225e-06" ixy="2.52375e-14" ixz="2.28522e-21" iyy="7.75241e-07" iyz="-7.71319e-09" izz="1.69897e-06"/>
    </inertial>
    <!-- Part elbow -->
    <visual>
      <origin xyz="-0.179517 0.0355 0.094" rpy="-4.43354e-14 1.5708 0"/>
      <geometry>
        <mesh filename="./assets/elbow.stl"/>
      </geometry>
      <material name="elbow_material">
        <color rgba="0.972549 0.529412 0.00392157 1"/>
      </material>
    </visual>
    <collision>
      <origin xyz="-0.179517 0.0355 0.094" rpy="-4.43354e-14 1.5708 0"/>
      <geometry>
        <mesh filename="./assets/elbow.stl"/>
      </geometry>
    </collision>
  </link>
  <!-- Link xl330___assembly_2 -->
  <link name="xl330___assembly_2">
    <inertial>
      <origin xyz="-3.22999e-06 0.0310227 -0.0130404" rpy="0 0 0"/>
      <mass value="0.0702024"/>
      <inertia ixx="3.54653e-05" ixy="-3.77028e-09" ixz="-1.27954e-11" iyy="9.41966e-06" iyz="1.44438e-06" izz="3.39167e-05"/>
    </inertial>
    <!-- Part hand -->
    <visual>
      <origin xyz="-0.179517 -0.1953 0.0203006" rpy="1.5708 1.91824e-13 1.5708"/>
      <geometry>
        <mesh filename="./assets/hand.stl"/>
      </geometry>
      <material name="hand_material">
        <color rgba="0.972549 0.529412 0.00392157 1"/>
      </material>
    </visual>
    <collision>
      <origin xyz="-0.179517 -0.1953 0.0203006" rpy="1.5708 1.91824e-13 1.5708"/>
      <geometry>
        <mesh filename="./assets/hand.stl"/>
      </geometry>
    </collision>
    <!-- Part b3b_eh_9 -->
    <visual>
      <origin xyz="-0.0077 0.009 -0.0169" rpy="-1.5708 3.68351e-14 1.5708"/>
      <geometry>
        <mesh filename="./assets/b3b_eh.stl"/>
      </geometry>
      <material name="b3b_eh_9_material">
        <color rgba="0.980392 0.713725 0.00392157 1"/>
      </material>
    </visual>
    <collision>
      <origin xyz="-0.0077 0.009 -0.0169" rpy="-1.5708 3.68351e-14 1.5708"/>
      <geometry>
        <mesh filename="./assets/b3b_eh.stl"/>
      </geometry>
    </collision>
    <!-- Part bts2_m2_6x8_5 -->
    <visual>
      <origin xyz="3.33067e-16 -3.60822e-16 -0.0016" rpy="1.5708 -4.75474e-30 -2.04179e-29"/>
      <geometry>
        <mesh filename="./assets/bts2_m2_6x8.stl"/>
      </geometry>
      <material name="bts2_m2_6x8_5_material">
        <color rgba="0.647059 0.647059 0.647059 1"/>
      </material>
    </visual>
    <collision>
      <origin xyz="3.33067e-16 -3.60822e-16 -0.0016" rpy="1.5708 -4.75474e-30 -2.04179e-29"/>
      <geometry>
        <mesh filename="./assets/bts2_m2_6x8.stl"/>
      </geometry>
    </collision>
    <!-- Part dc15_a01_case_b_dummy_5 -->
    <visual>
      <origin xyz="-7.21645e-16 -1.13798e-15 -0.026" rpy="4.03167e-14 1.1588e-14 -3.14159"/>
      <geometry>
        <mesh filename="./assets/dc15_a01_case_b_dummy.stl"/>
      </geometry>
      <material name="dc15_a01_case_b_dummy_5_material">
        <color rgba="0.615686 0.811765 0.929412 1"/>
      </material>
    </visual>
    <collision>
      <origin xyz="-7.21645e-16 -1.13798e-15 -0.026" rpy="4.03167e-14 1.1588e-14 -3.14159"/>
      <geometry>
        <mesh filename="./assets/dc15_a01_case_b_dummy.stl"/>
      </geometry>
    </collision>
    <!-- Part b3b_eh_10 -->
    <visual>
      <origin xyz="0.0077 0.009 -0.0169" rpy="-1.5708 -3.63095e-14 -1.5708"/>
      <geometry>
        <mesh filename="./assets/b3b_eh.stl"/>
      </geometry>
      <material name="b3b_eh_10_material">
        <color rgba="0.980392 0.713725 0.00392157 1"/>
      </material>
    </visual>
    <collision>
      <origin xyz="0.0077 0.009 -0.0169" rpy="-1.5708 -3.63095e-14 -1.5708"/>
      <geometry>
        <mesh filename="./assets/b3b_eh.stl"/>
      </geometry>
    </collision>
    <!-- Part dc15_a01_case_m_dummy_5 -->
    <visual>
      <origin xyz="-4.16334e-16 4.71845e-16 -0.0065" rpy="4.03167e-14 1.1588e-14 -3.14159"/>
      <geometry>
        <mesh filename="./assets/dc15_a01_case_m_dummy.stl"/>
      </geometry>
      <material name="dc15_a01_case_m_dummy_5_material">
        <color rgba="0.231373 0.380392 0.705882 1"/>
      </material>
    </visual>
    <collision>
      <origin xyz="-4.16334e-16 4.71845e-16 -0.0065" rpy="4.03167e-14 1.1588e-14 -3.14159"/>
      <geometry>
        <mesh filename="./assets/dc15_a01_case_m_dummy.stl"/>
      </geometry>
    </collision>
    <!-- Part dc15_a01_case_f_dummy_5 -->
    <visual>
      <origin xyz="-4.16334e-16 4.71845e-16 -0.0065" rpy="4.03167e-14 1.1588e-14 -3.14159"/>
      <geometry>
        <mesh filename="./assets/dc15_a01_case_f_dummy.stl"/>
      </geometry>
      <material name="dc15_a01_case_f_dummy_5_material">
        <color rgba="0.647059 0.647059 0.647059 1"/>
      </material>
    </visual>
    <collision>
      <origin xyz="-4.16334e-16 4.71845e-16 -0.0065" rpy="4.03167e-14 1.1588e-14 -3.14159"/>
      <geometry>
        <mesh filename="./assets/dc15_a01_case_f_dummy.stl"/>
      </geometry>
    </collision>
    <!-- Part dc15_a01_led_cap2_dummy_5 -->
    <visual>
      <origin xyz="2.77556e-17 -0.0075 -0.0241" rpy="-3.14159 -5.3707e-15 5.50948e-14"/>
      <geometry>
        <mesh filename="./assets/dc15_a01_led_cap2_dummy.stl"/>
      </geometry>
      <material name="dc15_a01_led_cap2_dummy_5_material">
        <color rgba="0.498039 0.498039 0.498039 1"/>
      </material>
    </visual>
    <collision>
      <origin xyz="2.77556e-17 -0.0075 -0.0241" rpy="-3.14159 -5.3707e-15 5.50948e-14"/>
      <geometry>
        <mesh filename="./assets/dc15_a01_led_cap2_dummy.stl"/>
      </geometry>
    </collision>
    <!-- Part dc15_a01_horn_dummy_5 -->
    <visual>
      <origin xyz="-2.77556e-17 -2.77556e-17 -0.0029" rpy="1.5708 -4.75474e-30 -2.04179e-29"/>
      <geometry>
        <mesh filename="./assets/dc15_a01_horn_dummy.stl"/>
      </geometry>
      <material name="dc15_a01_horn_dummy_5_material">
        <color rgba="0.980392 0.713725 0.00392157 1"/>
      </material>
    </visual>
    <collision>
      <origin xyz="-2.77556e-17 -2.77556e-17 -0.0029" rpy="1.5708 -4.75474e-30 -2.04179e-29"/>
      <geometry>
        <mesh filename="./assets/dc15_a01_horn_dummy.stl"/>
      </geometry>
    </collision>
  </link>
  <!-- Frame left_hand (dummy link + fixed joint) -->
  <link name="left_hand">
    <origin xyz="0 0 0" rpy="0 -0 0"/>
    <inertial>
      <origin xyz="0 0 0" rpy="0 0 0"/>
      <mass value="1e-9"/>
      <inertia ixx="0" ixy="0" ixz="0" iyy="0" iyz="0" izz="0"/>
    </inertial>
  </link>
  <joint name="left_hand_frame" type="fixed">
    <origin xyz="-1.37945e-14 0.0695 -0.0136997" rpy="-1.5708 -1.5708 0"/>
    <parent link="xl330___assembly_2"/>
    <child link="left_hand"/>
    <axis xyz="0 0 0"/>
  </joint>
  <!-- Joint from elbow to xl330___assembly_2 -->
  <joint name="left_arm_4" type="revolute">
    <origin xyz="-4.44089e-16 0.0142997 -0.0195" rpy="-1.5708 -4.19975e-14 4.43077e-14"/>
    <parent link="elbow"/>
    <child link="xl330___assembly_2"/>
    <axis xyz="0 0 1"/>
    <limit effort="10" velocity="10" lower="-1.5708" upper="1.5708"/>
  </joint>
  <!-- Joint from xl330___assembly to elbow -->
  <joint name="left_arm_3" type="revolute">
    <origin xyz="2.20102e-14 0.0576 -0.0122" rpy="1.5708 1.80868e-13 -4.21438e-13"/>
    <parent link="xl330___assembly"/>
    <child link="elbow"/>
    <axis xyz="0 0 1"/>
    <limit effort="10" velocity="10" lower="-3.14159" upper="3.14159"/>
  </joint>
  <!-- Joint from left_shoulder to xl330___assembly -->
  <joint name="left_arm_2" type="revolute">
    <origin xyz="0.0142997 2.498e-16 -0.0245" rpy="-1.5708 -1.19571e-14 -1.5708"/>
    <parent link="left_shoulder"/>
    <child link="xl330___assembly"/>
    <axis xyz="0 0 1"/>
    <limit effort="10" velocity="10" lower="-1.5708" upper="1.5708"/>
  </joint>
  <!-- Joint from arm_left to left_shoulder -->
  <joint name="left_arm_1" type="revolute">
    <origin xyz="0.089 0.0375 0.179517" rpy="1.5708 4.6923e-15 -1.5708"/>
    <parent link="arm_left"/>
    <child link="left_shoulder"/>
    <axis xyz="0 0 1"/>
    <limit effort="10" velocity="10" lower="-3.14159" upper="3.14159"/>
  </joint>
  <!-- Link right_shoulder -->
  <link name="right_shoulder">
    <inertial>
      <origin xyz="0.000954891 -0.00228907 -0.0110516" rpy="0 0 0"/>
      <mass value="0.0105595"/>
      <inertia ixx="1.4935e-06" ixy="1.08652e-09" ixz="-1.06527e-08" iyy="2.9353e-06" iyz="1.55193e-07" izz="2.46233e-06"/>
    </inertial>
    <!-- Part right_shoulder -->
    <visual>
      <origin xyz="0.0355 0.179517 0.089" rpy="1.5708 1.5708 0"/>
      <geometry>
        <mesh filename="./assets/right_shoulder.stl"/>
      </geometry>
      <material name="right_shoulder_material">
        <color rgba="0.972549 0.529412 0.00392157 1"/>
      </material>
    </visual>
    <collision>
      <origin xyz="0.0355 0.179517 0.089" rpy="1.5708 1.5708 0"/>
      <geometry>
        <mesh filename="./assets/right_shoulder.stl"/>
      </geometry>
    </collision>
  </link>
  <!-- Link shoulder_pad_2 -->
  <link name="shoulder_pad_2">
    <inertial>
      <origin xyz="0.0249562 0.0106205 -0.017979" rpy="0 0 0"/>
      <mass value="0.0123034"/>
      <inertia ixx="3.51415e-06" ixy="3.49578e-07" ixz="-3.32541e-09" iyy="6.33798e-06" iyz="1.93855e-09" izz="4.31141e-06"/>
    </inertial>
    <!-- Part shoulder_pad_2 -->
    <visual>
      <origin xyz="-0.0935 -0.191017 -0.0525" rpy="-1.5708 5.55112e-17 -1.01465e-17"/>
      <geometry>
        <mesh filename="./assets/shoulder_pad.stl"/>
      </geometry>
      <material name="shoulder_pad_2_material">
        <color rgba="0.917647 0.917647 0.917647 1"/>
      </material>
    </visual>
    <collision>
      <origin xyz="-0.0935 -0.191017 -0.0525" rpy="-1.5708 5.55112e-17 -1.01465e-17"/>
      <geometry>
        <mesh filename="./assets/shoulder_pad.stl"/>
      </geometry>
    </collision>
  </link>
  <!-- Joint from right_shoulder to shoulder_pad_2 -->
  <joint name="right_shoulder_pad" type="revolute">
    <origin xyz="-0.017 -0.0115 -0.0045" rpy="1.5708 0.785398 -1.5708"/>
    <parent link="right_shoulder"/>
    <child link="shoulder_pad_2"/>
    <axis xyz="0 0 1"/>
    <limit effort="10" velocity="10" lower="-0.785398" upper="1.4766e-14"/>
  </joint>
  <!-- Link xl330___assembly_3 -->
  <link name="xl330___assembly_3">
    <inertial>
      <origin xyz="-6.8549e-06 0.0295432 -0.0158499" rpy="0 0 0"/>
      <mass value="0.0655349"/>
      <inertia ixx="3.34493e-05" ixy="7.41815e-11" ixz="-1.56344e-09" iyy="1.25704e-05" iyz="4.35359e-06" izz="2.88274e-05"/>
    </inertial>
    <!-- Part right_upperarm -->
    <visual>
      <origin xyz="-0.179517 -0.1135 0.0218003" rpy="1.5708 1.03639e-13 1.5708"/>
      <geometry>
        <mesh filename="./assets/right_upperarm.stl"/>
      </geometry>
      <material name="right_upperarm_material">
        <color rgba="0.972549 0.529412 0.00392157 1"/>
      </material>
    </visual>
    <collision>
      <origin xyz="-0.179517 -0.1135 0.0218003" rpy="1.5708 1.03639e-13 1.5708"/>
      <geometry>
        <mesh filename="./assets/right_upperarm.stl"/>
      </geometry>
    </collision>
    <!-- Part b3b_eh_11 -->
    <visual>
      <origin xyz="-0.0077 0.00899999 -0.0169" rpy="-1.5708 -4.94049e-15 1.5708"/>
      <geometry>
        <mesh filename="./assets/b3b_eh.stl"/>
      </geometry>
      <material name="b3b_eh_11_material">
        <color rgba="0.980392 0.713725 0.00392157 1"/>
      </material>
    </visual>
    <collision>
      <origin xyz="-0.0077 0.00899999 -0.0169" rpy="-1.5708 -4.94049e-15 1.5708"/>
      <geometry>
        <mesh filename="./assets/b3b_eh.stl"/>
      </geometry>
    </collision>
    <!-- Part bts2_m2_6x8_6 -->
    <visual>
      <origin xyz="1.65354e-10 -5.83178e-09 -0.0016" rpy="1.5708 -1.51427e-30 1.92654e-30"/>
      <geometry>
        <mesh filename="./assets/bts2_m2_6x8.stl"/>
      </geometry>
      <material name="bts2_m2_6x8_6_material">
        <color rgba="0.647059 0.647059 0.647059 1"/>
      </material>
    </visual>
    <collision>
      <origin xyz="1.65354e-10 -5.83178e-09 -0.0016" rpy="1.5708 -1.51427e-30 1.92654e-30"/>
      <geometry>
        <mesh filename="./assets/bts2_m2_6x8.stl"/>
      </geometry>
    </collision>
    <!-- Part dc15_a01_case_b_dummy_6 -->
    <visual>
      <origin xyz="1.65352e-10 -5.83178e-09 -0.026" rpy="5.68989e-14 1.02969e-13 -3.14159"/>
      <geometry>
        <mesh filename="./assets/dc15_a01_case_b_dummy.stl"/>
      </geometry>
      <material name="dc15_a01_case_b_dummy_6_material">
        <color rgba="0.615686 0.811765 0.929412 1"/>
      </material>
    </visual>
    <collision>
      <origin xyz="1.65352e-10 -5.83178e-09 -0.026" rpy="5.68989e-14 1.02969e-13 -3.14159"/>
      <geometry>
        <mesh filename="./assets/dc15_a01_case_b_dummy.stl"/>
      </geometry>
    </collision>
    <!-- Part b3b_eh_12 -->
    <visual>
      <origin xyz="0.0077 0.00899999 -0.0169" rpy="-1.5708 -1.83187e-15 -1.5708"/>
      <geometry>
        <mesh filename="./assets/b3b_eh.stl"/>
      </geometry>
      <material name="b3b_eh_12_material">
        <color rgba="0.980392 0.713725 0.00392157 1"/>
      </material>
    </visual>
    <collision>
      <origin xyz="0.0077 0.00899999 -0.0169" rpy="-1.5708 -1.83187e-15 -1.5708"/>
      <geometry>
        <mesh filename="./assets/b3b_eh.stl"/>
      </geometry>
    </collision>
    <!-- Part dc15_a01_case_m_dummy_6 -->
    <visual>
      <origin xyz="1.65355e-10 -5.83178e-09 -0.0065" rpy="5.68989e-14 1.02969e-13 -3.14159"/>
      <geometry>
        <mesh filename="./assets/dc15_a01_case_m_dummy.stl"/>
      </geometry>
      <material name="dc15_a01_case_m_dummy_6_material">
        <color rgba="0.231373 0.380392 0.705882 1"/>
      </material>
    </visual>
    <collision>
      <origin xyz="1.65355e-10 -5.83178e-09 -0.0065" rpy="5.68989e-14 1.02969e-13 -3.14159"/>
      <geometry>
        <mesh filename="./assets/dc15_a01_case_m_dummy.stl"/>
      </geometry>
    </collision>
    <!-- Part dc15_a01_case_f_dummy_6 -->
    <visual>
      <origin xyz="1.65355e-10 -5.83178e-09 -0.0065" rpy="5.68989e-14 1.02969e-13 -3.14159"/>
      <geometry>
        <mesh filename="./assets/dc15_a01_case_f_dummy.stl"/>
      </geometry>
      <material name="dc15_a01_case_f_dummy_6_material">
        <color rgba="0.647059 0.647059 0.647059 1"/>
      </material>
    </visual>
    <collision>
      <origin xyz="1.65355e-10 -5.83178e-09 -0.0065" rpy="5.68989e-14 1.02969e-13 -3.14159"/>
      <geometry>
        <mesh filename="./assets/dc15_a01_case_f_dummy.stl"/>
      </geometry>
    </collision>
    <!-- Part dc15_a01_led_cap2_dummy_6 -->
    <visual>
      <origin xyz="1.65355e-10 -0.00750001 -0.0241" rpy="-3.14159 1.69414e-13 4.52031e-13"/>
      <geometry>
        <mesh filename="./assets/dc15_a01_led_cap2_dummy.stl"/>
      </geometry>
      <material name="dc15_a01_led_cap2_dummy_6_material">
        <color rgba="0.498039 0.498039 0.498039 1"/>
      </material>
    </visual>
    <collision>
      <origin xyz="1.65355e-10 -0.00750001 -0.0241" rpy="-3.14159 1.69414e-13 4.52031e-13"/>
      <geometry>
        <mesh filename="./assets/dc15_a01_led_cap2_dummy.stl"/>
      </geometry>
    </collision>
    <!-- Part dc15_a01_horn_dummy_6 -->
    <visual>
      <origin xyz="1.65355e-10 -5.83177e-09 -0.0029" rpy="1.5708 -1.51427e-30 1.92654e-30"/>
      <geometry>
        <mesh filename="./assets/dc15_a01_horn_dummy.stl"/>
      </geometry>
      <material name="dc15_a01_horn_dummy_6_material">
        <color rgba="0.980392 0.713725 0.00392157 1"/>
      </material>
    </visual>
    <collision>
      <origin xyz="1.65355e-10 -5.83177e-09 -0.0029" rpy="1.5708 -1.51427e-30 1.92654e-30"/>
      <geometry>
        <mesh filename="./assets/dc15_a01_horn_dummy.stl"/>
      </geometry>
    </collision>
    <!-- Part b3b_eh_13 -->
    <visual>
      <origin xyz="-0.0077 0.0407 -0.0212" rpy="3.14159 1.5708 0"/>
      <geometry>
        <mesh filename="./assets/b3b_eh.stl"/>
      </geometry>
      <material name="b3b_eh_13_material">
        <color rgba="0.980392 0.713725 0.00392157 1"/>
      </material>
    </visual>
    <collision>
      <origin xyz="-0.0077 0.0407 -0.0212" rpy="3.14159 1.5708 0"/>
      <geometry>
        <mesh filename="./assets/b3b_eh.stl"/>
      </geometry>
    </collision>
    <!-- Part bts2_m2_6x8_7 -->
    <visual>
      <origin xyz="1.65328e-10 0.056 -0.0122" rpy="2.57572e-14 -1.15371e-13 2.4624e-13"/>
      <geometry>
        <mesh filename="./assets/bts2_m2_6x8.stl"/>
      </geometry>
      <material name="bts2_m2_6x8_7_material">
        <color rgba="0.647059 0.647059 0.647059 1"/>
      </material>
    </visual>
    <collision>
      <origin xyz="1.65328e-10 0.056 -0.0122" rpy="2.57572e-14 -1.15371e-13 2.4624e-13"/>
      <geometry>
        <mesh filename="./assets/bts2_m2_6x8.stl"/>
      </geometry>
    </collision>
    <!-- Part dc15_a01_case_b_dummy_7 -->
    <visual>
      <origin xyz="1.65338e-10 0.0316 -0.0122" rpy="1.5708 1.01522e-13 -3.14159"/>
      <geometry>
        <mesh filename="./assets/dc15_a01_case_b_dummy.stl"/>
      </geometry>
      <material name="dc15_a01_case_b_dummy_7_material">
        <color rgba="0.615686 0.811765 0.929412 1"/>
      </material>
    </visual>
    <collision>
      <origin xyz="1.65338e-10 0.0316 -0.0122" rpy="1.5708 1.01522e-13 -3.14159"/>
      <geometry>
        <mesh filename="./assets/dc15_a01_case_b_dummy.stl"/>
      </geometry>
    </collision>
    <!-- Part b3b_eh_14 -->
    <visual>
      <origin xyz="0.0077 0.0407 -0.0212" rpy="-3.14159 -1.5708 0"/>
      <geometry>
        <mesh filename="./assets/b3b_eh.stl"/>
      </geometry>
      <material name="b3b_eh_14_material">
        <color rgba="0.980392 0.713725 0.00392157 1"/>
      </material>
    </visual>
    <collision>
      <origin xyz="0.0077 0.0407 -0.0212" rpy="-3.14159 -1.5708 0"/>
      <geometry>
        <mesh filename="./assets/b3b_eh.stl"/>
      </geometry>
    </collision>
    <!-- Part dc15_a01_case_m_dummy_7 -->
    <visual>
      <origin xyz="1.6533e-10 0.0511 -0.0122" rpy="1.5708 1.01522e-13 -3.14159"/>
      <geometry>
        <mesh filename="./assets/dc15_a01_case_m_dummy.stl"/>
      </geometry>
      <material name="dc15_a01_case_m_dummy_7_material">
        <color rgba="0.231373 0.380392 0.705882 1"/>
      </material>
    </visual>
    <collision>
      <origin xyz="1.6533e-10 0.0511 -0.0122" rpy="1.5708 1.01522e-13 -3.14159"/>
      <geometry>
        <mesh filename="./assets/dc15_a01_case_m_dummy.stl"/>
      </geometry>
    </collision>
    <!-- Part dc15_a01_case_f_dummy_7 -->
    <visual>
      <origin xyz="1.6533e-10 0.0511 -0.0122" rpy="1.5708 1.01522e-13 -3.14159"/>
      <geometry>
        <mesh filename="./assets/dc15_a01_case_f_dummy.stl"/>
      </geometry>
      <material name="dc15_a01_case_f_dummy_7_material">
        <color rgba="0.647059 0.647059 0.647059 1"/>
      </material>
    </visual>
    <collision>
      <origin xyz="1.6533e-10 0.0511 -0.0122" rpy="1.5708 1.01522e-13 -3.14159"/>
      <geometry>
        <mesh filename="./assets/dc15_a01_case_f_dummy.stl"/>
      </geometry>
    </collision>
    <!-- Part dc15_a01_led_cap2_dummy_7 -->
    <visual>
      <origin xyz="1.65336e-10 0.0335 -0.0047" rpy="1.5708 -1.43235e-13 1.88371e-13"/>
      <geometry>
        <mesh filename="./assets/dc15_a01_led_cap2_dummy.stl"/>
      </geometry>
      <material name="dc15_a01_led_cap2_dummy_7_material">
        <color rgba="0.498039 0.498039 0.498039 1"/>
      </material>
    </visual>
    <collision>
      <origin xyz="1.65336e-10 0.0335 -0.0047" rpy="1.5708 -1.43235e-13 1.88371e-13"/>
      <geometry>
        <mesh filename="./assets/dc15_a01_led_cap2_dummy.stl"/>
      </geometry>
    </collision>
    <!-- Part dc15_a01_horn_dummy_7 -->
    <visual>
      <origin xyz="1.65326e-10 0.0547 -0.0122" rpy="2.57572e-14 -1.15371e-13 2.4624e-13"/>
      <geometry>
        <mesh filename="./assets/dc15_a01_horn_dummy.stl"/>
      </geometry>
      <material name="dc15_a01_horn_dummy_7_material">
        <color rgba="0.980392 0.713725 0.00392157 1"/>
      </material>
    </visual>
    <collision>
      <origin xyz="1.65326e-10 0.0547 -0.0122" rpy="2.57572e-14 -1.15371e-13 2.4624e-13"/>
      <geometry>
        <mesh filename="./assets/dc15_a01_horn_dummy.stl"/>
      </geometry>
    </collision>
  </link>
  <!-- Link elbow_2 -->
  <link name="elbow_2">
    <inertial>
      <origin xyz="0.000935936 -1.11022e-16 -0.0102895" rpy="0 0 0"/>
      <mass value="0.00742746"/>
      <inertia ixx="7.75241e-07" ixy="-2.52375e-14" ixz="-7.71319e-09" iyy="2.01225e-06" iyz="-1.40096e-30" izz="1.69897e-06"/>
    </inertial>
    <!-- Part elbow_2 -->
    <visual>
      <origin xyz="0.0355 0.179517 0.094" rpy="1.5708 1.5708 0"/>
      <geometry>
        <mesh filename="./assets/elbow.stl"/>
      </geometry>
      <material name="elbow_2_material">
        <color rgba="0.972549 0.529412 0.00392157 1"/>
      </material>
    </visual>
    <collision>
      <origin xyz="0.0355 0.179517 0.094" rpy="1.5708 1.5708 0"/>
      <geometry>
        <mesh filename="./assets/elbow.stl"/>
      </geometry>
    </collision>
  </link>
  <!-- Link xl330___assembly_4 -->
  <link name="xl330___assembly_4">
    <inertial>
      <origin xyz="-3.22983e-06 0.0310227 -0.0130404" rpy="0 0 0"/>
      <mass value="0.0702024"/>
      <inertia ixx="3.54653e-05" ixy="-3.77028e-09" ixz="-1.27954e-11" iyy="9.41966e-06" iyz="1.44438e-06" izz="3.39167e-05"/>
    </inertial>
    <!-- Part hand_2 -->
    <visual>
      <origin xyz="-0.179517 -0.1953 0.0203006" rpy="1.5708 6.32092e-14 1.5708"/>
      <geometry>
        <mesh filename="./assets/hand.stl"/>
      </geometry>
      <material name="hand_2_material">
        <color rgba="0.972549 0.529412 0.00392157 1"/>
      </material>
    </visual>
    <collision>
      <origin xyz="-0.179517 -0.1953 0.0203006" rpy="1.5708 6.32092e-14 1.5708"/>
      <geometry>
        <mesh filename="./assets/hand.stl"/>
      </geometry>
    </collision>
    <!-- Part b3b_eh_15 -->
    <visual>
      <origin xyz="-0.0077 0.00899999 -0.0169" rpy="-1.5708 -3.55095e-14 1.5708"/>
      <geometry>
        <mesh filename="./assets/b3b_eh.stl"/>
      </geometry>
      <material name="b3b_eh_15_material">
        <color rgba="0.980392 0.713725 0.00392157 1"/>
      </material>
    </visual>
    <collision>
      <origin xyz="-0.0077 0.00899999 -0.0169" rpy="-1.5708 -3.55095e-14 1.5708"/>
      <geometry>
        <mesh filename="./assets/b3b_eh.stl"/>
      </geometry>
    </collision>
    <!-- Part bts2_m2_6x8_8 -->
    <visual>
      <origin xyz="1.65355e-10 -5.83177e-09 -0.0016" rpy="1.5708 4.25777e-31 -8.65282e-30"/>
      <geometry>
        <mesh filename="./assets/bts2_m2_6x8.stl"/>
      </geometry>
      <material name="bts2_m2_6x8_8_material">
        <color rgba="0.647059 0.647059 0.647059 1"/>
      </material>
    </visual>
    <collision>
      <origin xyz="1.65355e-10 -5.83177e-09 -0.0016" rpy="1.5708 4.25777e-31 -8.65282e-30"/>
      <geometry>
        <mesh filename="./assets/bts2_m2_6x8.stl"/>
      </geometry>
    </collision>
    <!-- Part dc15_a01_case_b_dummy_8 -->
    <visual>
      <origin xyz="1.65358e-10 -5.83177e-09 -0.026" rpy="-5.89934e-14 1.03868e-13 3.14159"/>
      <geometry>
        <mesh filename="./assets/dc15_a01_case_b_dummy.stl"/>
      </geometry>
      <material name="dc15_a01_case_b_dummy_8_material">
        <color rgba="0.615686 0.811765 0.929412 1"/>
      </material>
    </visual>
    <collision>
      <origin xyz="1.65358e-10 -5.83177e-09 -0.026" rpy="-5.89934e-14 1.03868e-13 3.14159"/>
      <geometry>
        <mesh filename="./assets/dc15_a01_case_b_dummy.stl"/>
      </geometry>
    </collision>
    <!-- Part b3b_eh_16 -->
    <visual>
      <origin xyz="0.0077 0.00899999 -0.0169" rpy="-1.5708 3.59174e-14 -1.5708"/>
      <geometry>
        <mesh filename="./assets/b3b_eh.stl"/>
      </geometry>
      <material name="b3b_eh_16_material">
        <color rgba="0.980392 0.713725 0.00392157 1"/>
      </material>
    </visual>
    <collision>
      <origin xyz="0.0077 0.00899999 -0.0169" rpy="-1.5708 3.59174e-14 -1.5708"/>
      <geometry>
        <mesh filename="./assets/b3b_eh.stl"/>
      </geometry>
    </collision>
    <!-- Part dc15_a01_case_m_dummy_8 -->
    <visual>
      <origin xyz="1.65356e-10 -5.83178e-09 -0.0065" rpy="-5.89934e-14 1.03868e-13 3.14159"/>
      <geometry>
        <mesh filename="./assets/dc15_a01_case_m_dummy.stl"/>
      </geometry>
      <material name="dc15_a01_case_m_dummy_8_material">
        <color rgba="0.231373 0.380392 0.705882 1"/>
      </material>
    </visual>
    <collision>
      <origin xyz="1.65356e-10 -5.83178e-09 -0.0065" rpy="-5.89934e-14 1.03868e-13 3.14159"/>
      <geometry>
        <mesh filename="./assets/dc15_a01_case_m_dummy.stl"/>
      </geometry>
    </collision>
    <!-- Part dc15_a01_case_f_dummy_8 -->
    <visual>
      <origin xyz="1.65356e-10 -5.83178e-09 -0.0065" rpy="-5.89934e-14 1.03868e-13 3.14159"/>
      <geometry>
        <mesh filename="./assets/dc15_a01_case_f_dummy.stl"/>
      </geometry>
      <material name="dc15_a01_case_f_dummy_8_material">
        <color rgba="0.647059 0.647059 0.647059 1"/>
      </material>
    </visual>
    <collision>
      <origin xyz="1.65356e-10 -5.83178e-09 -0.0065" rpy="-5.89934e-14 1.03868e-13 3.14159"/>
      <geometry>
        <mesh filename="./assets/dc15_a01_case_f_dummy.stl"/>
      </geometry>
    </collision>
    <!-- Part dc15_a01_led_cap2_dummy_8 -->
    <visual>
      <origin xyz="1.65358e-10 -0.00750001 -0.0241" rpy="-3.14159 -3.18731e-13 -4.12864e-14"/>
      <geometry>
        <mesh filename="./assets/dc15_a01_led_cap2_dummy.stl"/>
      </geometry>
      <material name="dc15_a01_led_cap2_dummy_8_material">
        <color rgba="0.498039 0.498039 0.498039 1"/>
      </material>
    </visual>
    <collision>
      <origin xyz="1.65358e-10 -0.00750001 -0.0241" rpy="-3.14159 -3.18731e-13 -4.12864e-14"/>
      <geometry>
        <mesh filename="./assets/dc15_a01_led_cap2_dummy.stl"/>
      </geometry>
    </collision>
    <!-- Part dc15_a01_horn_dummy_8 -->
    <visual>
      <origin xyz="1.65355e-10 -5.83177e-09 -0.0029" rpy="1.5708 4.25777e-31 -8.65282e-30"/>
      <geometry>
        <mesh filename="./assets/dc15_a01_horn_dummy.stl"/>
      </geometry>
      <material name="dc15_a01_horn_dummy_8_material">
        <color rgba="0.980392 0.713725 0.00392157 1"/>
      </material>
    </visual>
    <collision>
      <origin xyz="1.65355e-10 -5.83177e-09 -0.0029" rpy="1.5708 4.25777e-31 -8.65282e-30"/>
      <geometry>
        <mesh filename="./assets/dc15_a01_horn_dummy.stl"/>
      </geometry>
    </collision>
  </link>
  <!-- Frame right_hand (dummy link + fixed joint) -->
  <link name="right_hand">
    <origin xyz="0 0 0" rpy="0 -0 0"/>
    <inertial>
      <origin xyz="0 0 0" rpy="0 0 0"/>
      <mass value="1e-9"/>
      <inertia ixx="0" ixy="0" ixz="0" iyy="0" iyz="0" izz="0"/>
    </inertial>
  </link>
  <joint name="right_hand_frame" type="fixed">
    <origin xyz="1.65348e-10 0.0695 -0.0136997" rpy="-1.5708 -1.5708 0"/>
    <parent link="xl330___assembly_4"/>
    <child link="right_hand"/>
    <axis xyz="0 0 0"/>
  </joint>
  <!-- Joint from elbow_2 to xl330___assembly_4 -->
  <joint name="right_arm_4" type="revolute">
    <origin xyz="0.0142997 -2.77556e-16 -0.0195" rpy="-1.5708 1.96578e-13 -1.5708"/>
    <parent link="elbow_2"/>
    <child link="xl330___assembly_4"/>
    <axis xyz="0 0 1"/>
    <limit effort="10" velocity="10" lower="-1.5708" upper="1.5708"/>
  </joint>
  <!-- Joint from xl330___assembly_3 to elbow_2 -->
  <joint name="right_arm_3" type="revolute">
    <origin xyz="1.65325e-10 0.0576 -0.0122" rpy="1.5708 -1.5708 0"/>
    <parent link="xl330___assembly_3"/>
    <child link="elbow_2"/>
    <axis xyz="0 0 1"/>
    <limit effort="10" velocity="10" lower="-3.14159" upper="3.14159"/>
  </joint>
  <!-- Joint from right_shoulder to xl330___assembly_3 -->
  <joint name="right_arm_2" type="revolute">
    <origin xyz="0.0142997 -2.498e-16 -0.0245" rpy="-1.5708 -6.97562e-14 -1.5708"/>
    <parent link="right_shoulder"/>
    <child link="xl330___assembly_3"/>
    <axis xyz="0 0 1"/>
    <limit effort="10" velocity="10" lower="-1.5708" upper="1.5708"/>
  </joint>
  <!-- Joint from arm_left to right_shoulder -->
  <joint name="right_arm_1" type="revolute">
    <origin xyz="-0.089 0.0375 0.179517" rpy="-1.5708 4.28246e-14 -1.5708"/>
    <parent link="arm_left"/>
    <child link="right_shoulder"/>
    <axis xyz="0 0 1"/>
    <limit effort="10" velocity="10" lower="-3.14159" upper="3.14159"/>
  </joint>
</robot>
